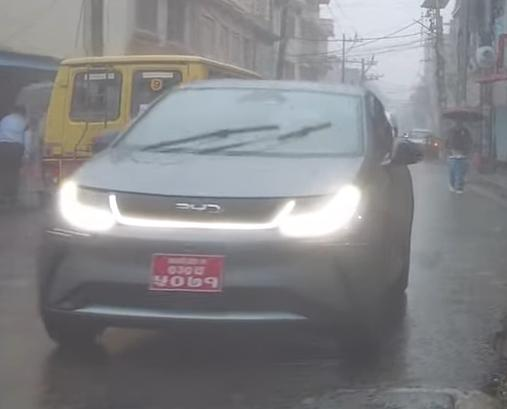car: (32, 82, 427, 327)
